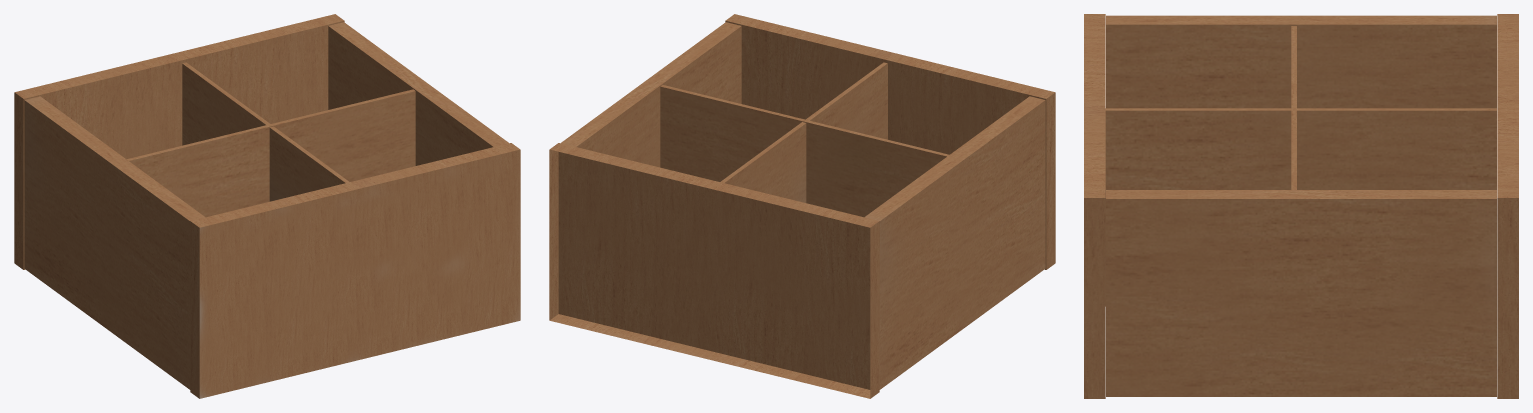
The model's file is wood.dae.
The picture shows the model from 3 angles, left to right: view 1: azimuth 30°, elevation 25°; view 2: azimuth 150°, elevation 25°; view 3: azimuth 270°, elevation 25°; orthographic projection. The views are drawn at different scales.
Parts seen in each view (by area): view 1: SquareShelf; view 2: SquareShelf; view 3: SquareShelf.
Boxes of the visible parts, x1,y1,x2,y2 form: SquareShelf: [14, 14, 520, 398]; SquareShelf: [549, 14, 1055, 398]; SquareShelf: [1084, 14, 1518, 398].
Size of the model in its own units: 0.7687 by 0.7682 by 0.3919.
Materials: 1 (1 with a texture image).
